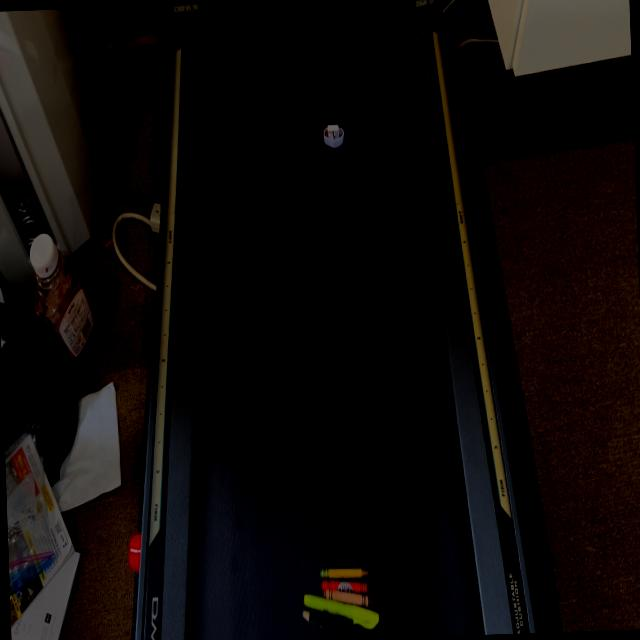Trash: (298, 546, 387, 638), (319, 120, 345, 154)
